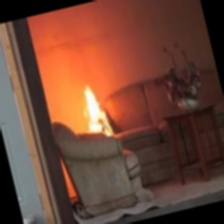fire: (68, 78, 114, 137)
